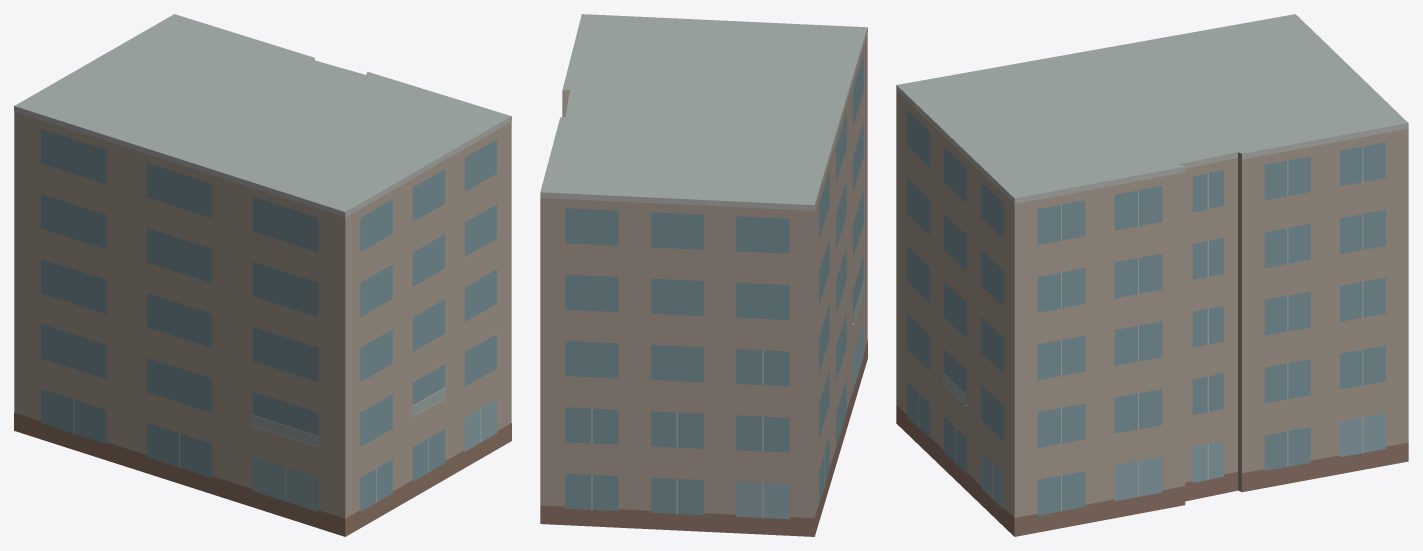
The model's file is survey-upis-32990117.glb.
The picture shows the model from 3 angles, left to right: view 1: azimuth 30°, elevation 25°; view 2: azimuth 150°, elevation 25°; view 3: azimuth 270°, elevation 25°; orthographic projection. The views are drawn at different scales.
Parts seen in each view (by area): view 1: survey-upis-32990117.tmp; view 2: survey-upis-32990117.tmp; view 3: survey-upis-32990117.tmp.
Boxes of the visible parts, <box> form: survey-upis-32990117.tmp: <box>14,14,511,536</box>; survey-upis-32990117.tmp: <box>540,14,867,536</box>; survey-upis-32990117.tmp: <box>896,14,1408,536</box>.
Bounding box in the file's own units: 16.9 × 14.45 × 19.83.
